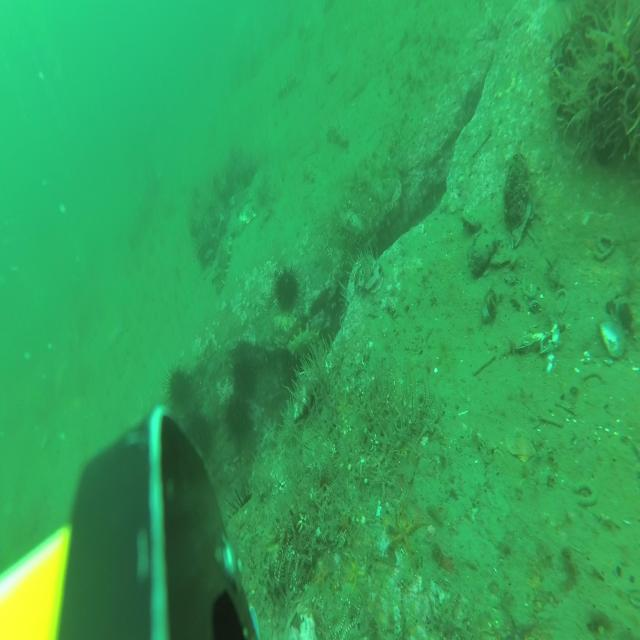echinus: (229, 482, 260, 538), (224, 397, 252, 449), (273, 265, 301, 316), (232, 348, 255, 401), (166, 364, 191, 409), (190, 414, 213, 454)
holothurian: (288, 326, 324, 360), (214, 231, 231, 298), (328, 120, 348, 150), (277, 72, 298, 97), (302, 166, 316, 187)
scallop: (506, 424, 536, 464), (239, 199, 259, 226), (326, 54, 342, 84)
starfish: (391, 504, 426, 553), (342, 547, 368, 592), (313, 563, 333, 589)
